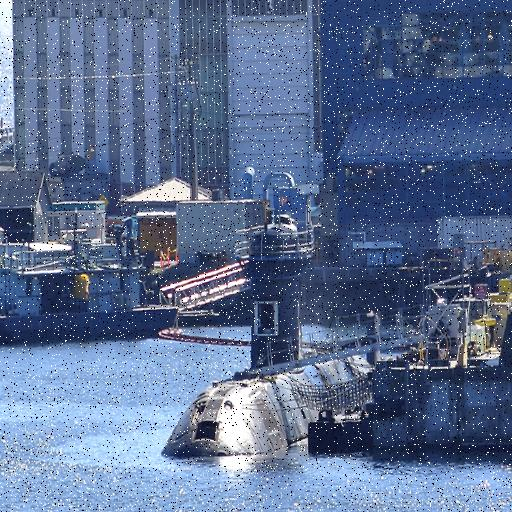submarine: (162, 222, 372, 460)
